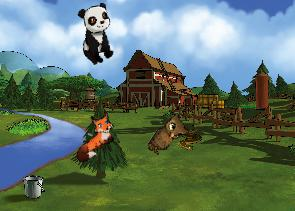fox: (62, 107, 124, 165)
owl: (145, 109, 194, 163)
panda: (76, 2, 117, 66)
